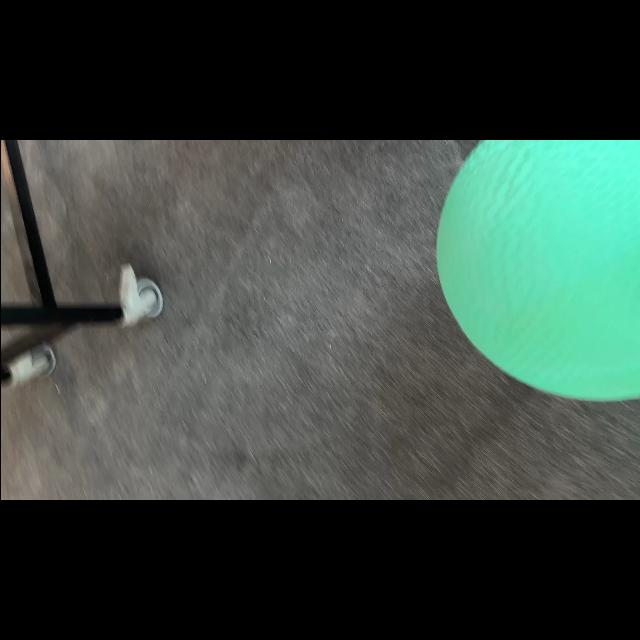ALGAE: (434, 140, 638, 402)
